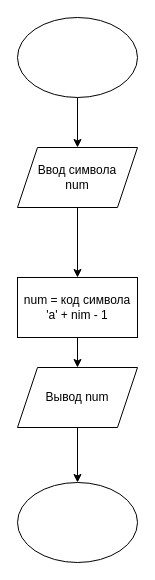
Image size: 155x580. Some labels were removed from this diagram. The shapes that lost their labels are listed below. From the top down, each one's centre as x and y in pixels, then its label:
At point (77, 57): "Начало".
At point (77, 522): "Конец".
